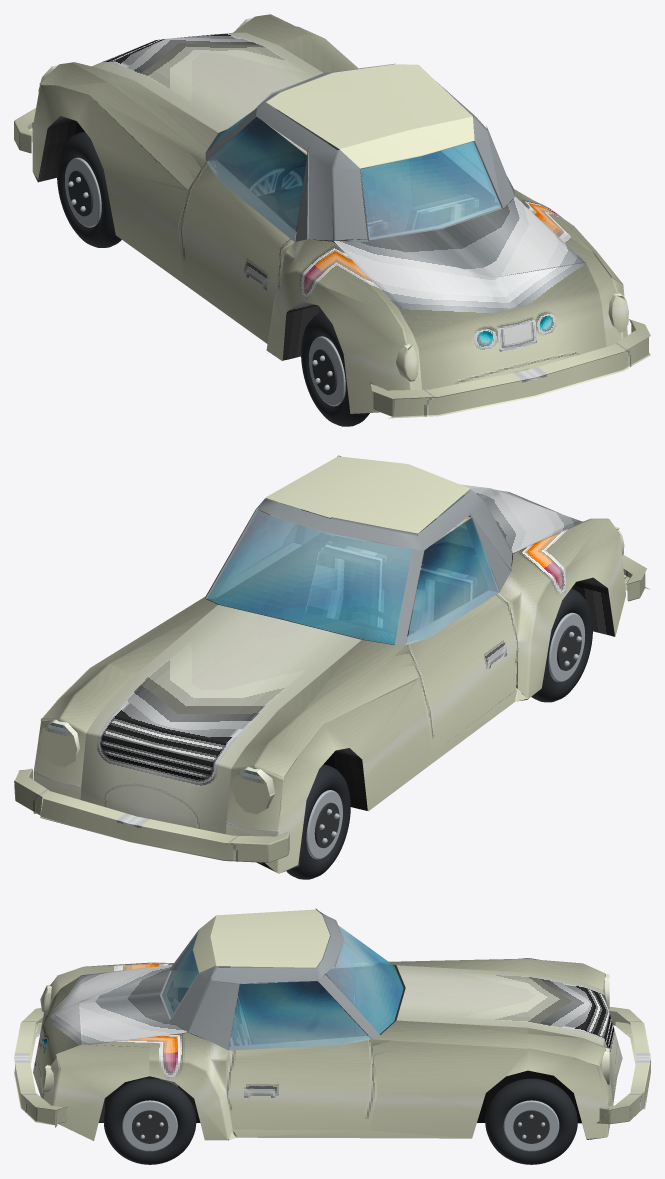
Rendered from car-ccurator.glb.
3 views of the same model, one above another, from view 1: azimuth 30°, elevation 25°; view 2: azimuth 150°, elevation 25°; view 3: azimuth 270°, elevation 25° (orthographic). The views are drawn at different scales.
Visible parts, largest first — view 1: cCuratorShape.001, cCuratorShape.002, cCuratorShape.007, cCuratorShape.004, DoorDRotShape.023, cCuratorShape.005, cCuratorShape.006, DoorDRotShape.025, Rounded tire.041, DoorPRotShape.026, cCuratorShape, Rounded tire.040 (+5 smaller); view 2: cCuratorShape.002, cCuratorShape.004, cCuratorShape.001, cCuratorShape.006, cCuratorShape.005, DoorDRotShape.023, cCuratorShape.007, DoorDRotShape.025, cCuratorShape, DoorPRotShape.026, Rounded tire.041, Rounded tire.040 (+7 smaller); view 3: cCuratorShape.001, cCuratorShape.002, cCuratorShape.003, cCuratorShape.004, DoorPRotShape.025, DoorPRotShape.027, cCuratorShape.007, cCuratorShape.006, DoorDRotShape.024, cCuratorShape.005, Rounded tire.042, Rounded tire.043 (+7 smaller).
Part boxes in pixels (box(x1,y1,x2,y2)): cCuratorShape.001: box(14, 19, 650, 418); cCuratorShape.002: box(32, 14, 628, 413); cCuratorShape.007: box(266, 64, 474, 168); cCuratorShape.004: box(38, 17, 322, 132); DoorDRotShape.023: box(178, 162, 294, 333); cCuratorShape.005: box(205, 110, 497, 247); cCuratorShape.006: box(211, 109, 500, 239); DoorDRotShape.025: box(206, 117, 307, 241); Rounded tire.041: box(57, 132, 121, 247); DoorPRotShape.026: box(409, 151, 491, 210); cCuratorShape: box(33, 101, 564, 360); Rounded tire.040: box(301, 312, 369, 426); cCuratorShape.002: box(33, 518, 625, 873); cCuratorShape.004: box(43, 605, 361, 834); cCuratorShape.001: box(14, 455, 650, 862); cCuratorShape.006: box(207, 495, 464, 644); cCuratorShape.005: box(205, 516, 491, 644); DoorDRotShape.023: box(406, 592, 517, 753); cCuratorShape.007: box(265, 456, 470, 533); DoorDRotShape.025: box(406, 517, 499, 644); cCuratorShape: box(35, 540, 614, 872); DoorPRotShape.026: box(217, 545, 303, 611); Rounded tire.041: box(286, 764, 350, 879); Rounded tire.040: box(531, 588, 592, 702); cCuratorShape.001: box(14, 908, 650, 1127); cCuratorShape.002: box(40, 958, 612, 1140); cCuratorShape.003: box(149, 1039, 527, 1140); cCuratorShape.004: box(396, 965, 622, 1103); DoorPRotShape.025: box(226, 1039, 377, 1130); DoorPRotShape.027: box(228, 981, 370, 1050); cCuratorShape.007: box(192, 909, 330, 972); cCuratorShape.006: box(162, 925, 403, 1034); DoorDRotShape.024: box(239, 963, 370, 1040); cCuratorShape.005: box(229, 963, 405, 1045); Rounded tire.042: box(485, 1078, 577, 1164); Rounded tire.043: box(103, 1078, 196, 1164).
Bounding box in the file's own units: 2.14 × 1.8 × 5.53.
Materials: 11 (8 with a texture image).
